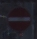No entry: (6, 6, 32, 34)
